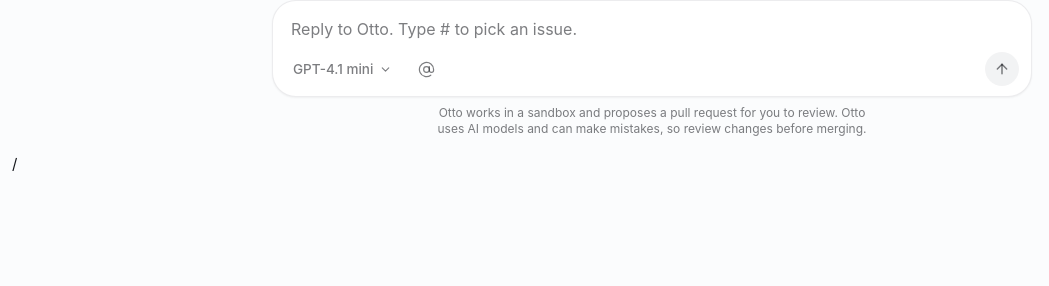
a 409 is shown inline
Type "x" into the text box named "Message Otto" at x=655, y=30, box [291,15,1019,44]
Then press Enter
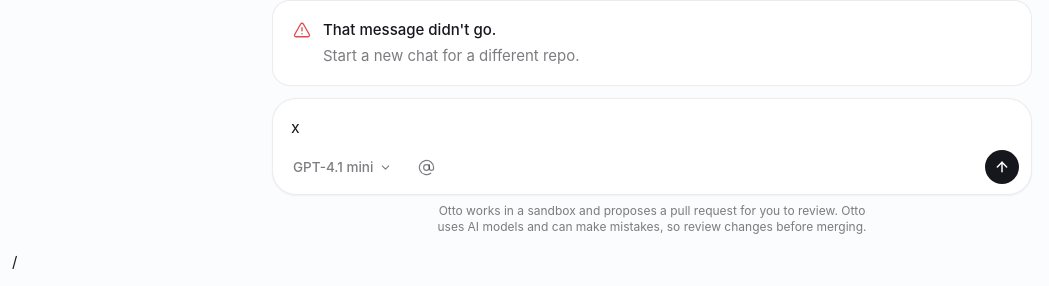
expect the text "That message didn't go." is shown: met, box [323,20,496,39]
expect the text "Start a new chat for a different repo." is shown: met, box [323,46,580,64]
